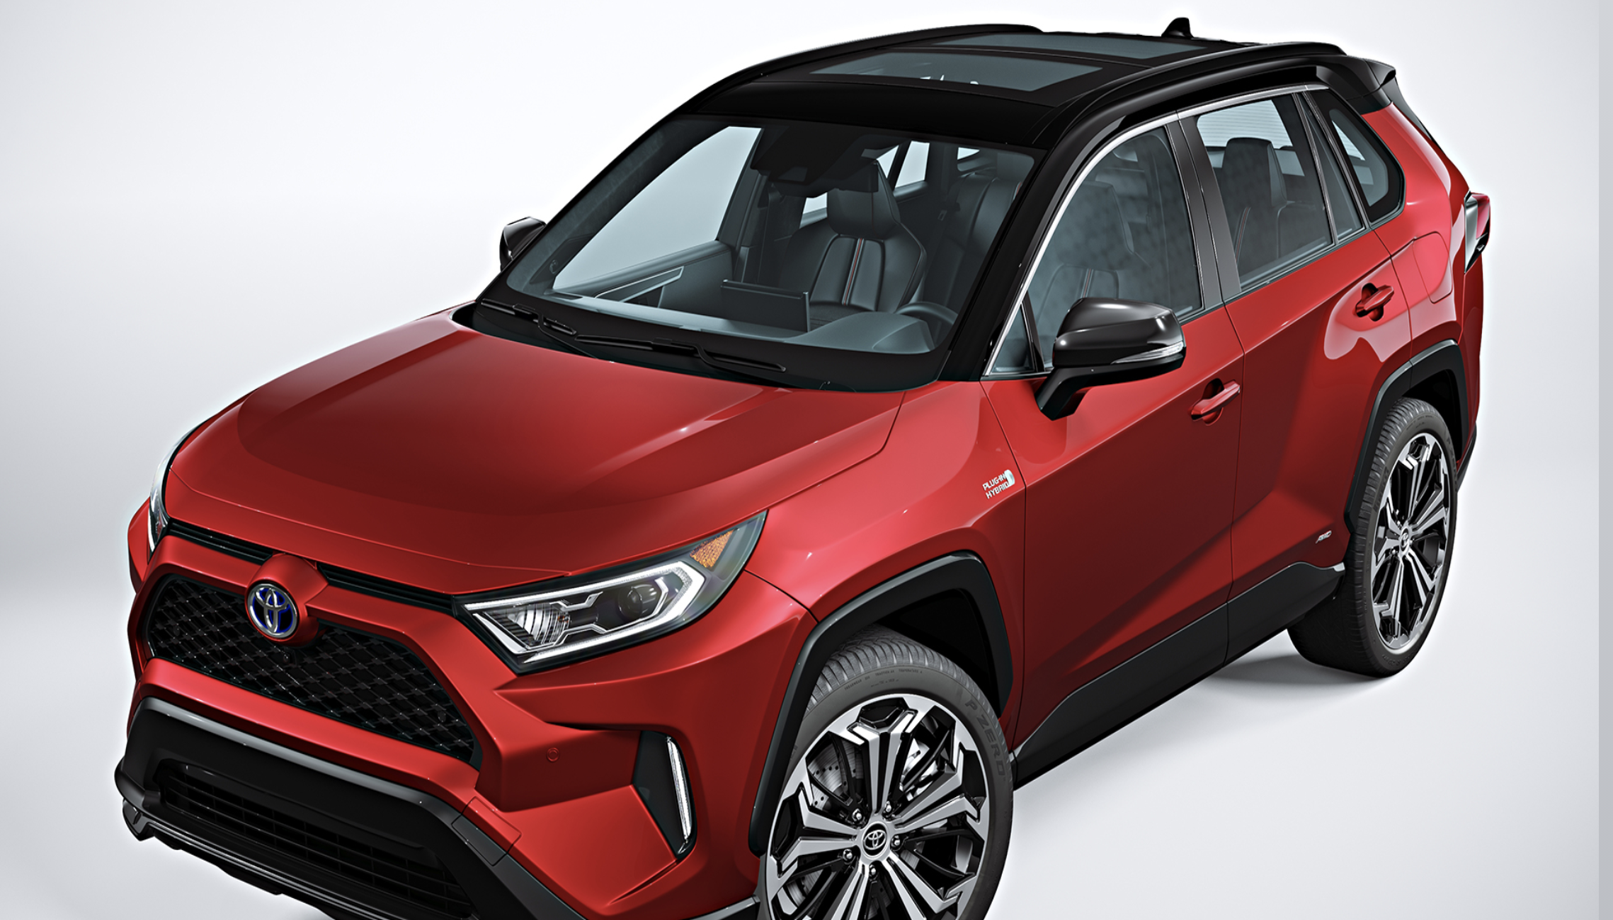hatch: (1405, 229, 1463, 308)
